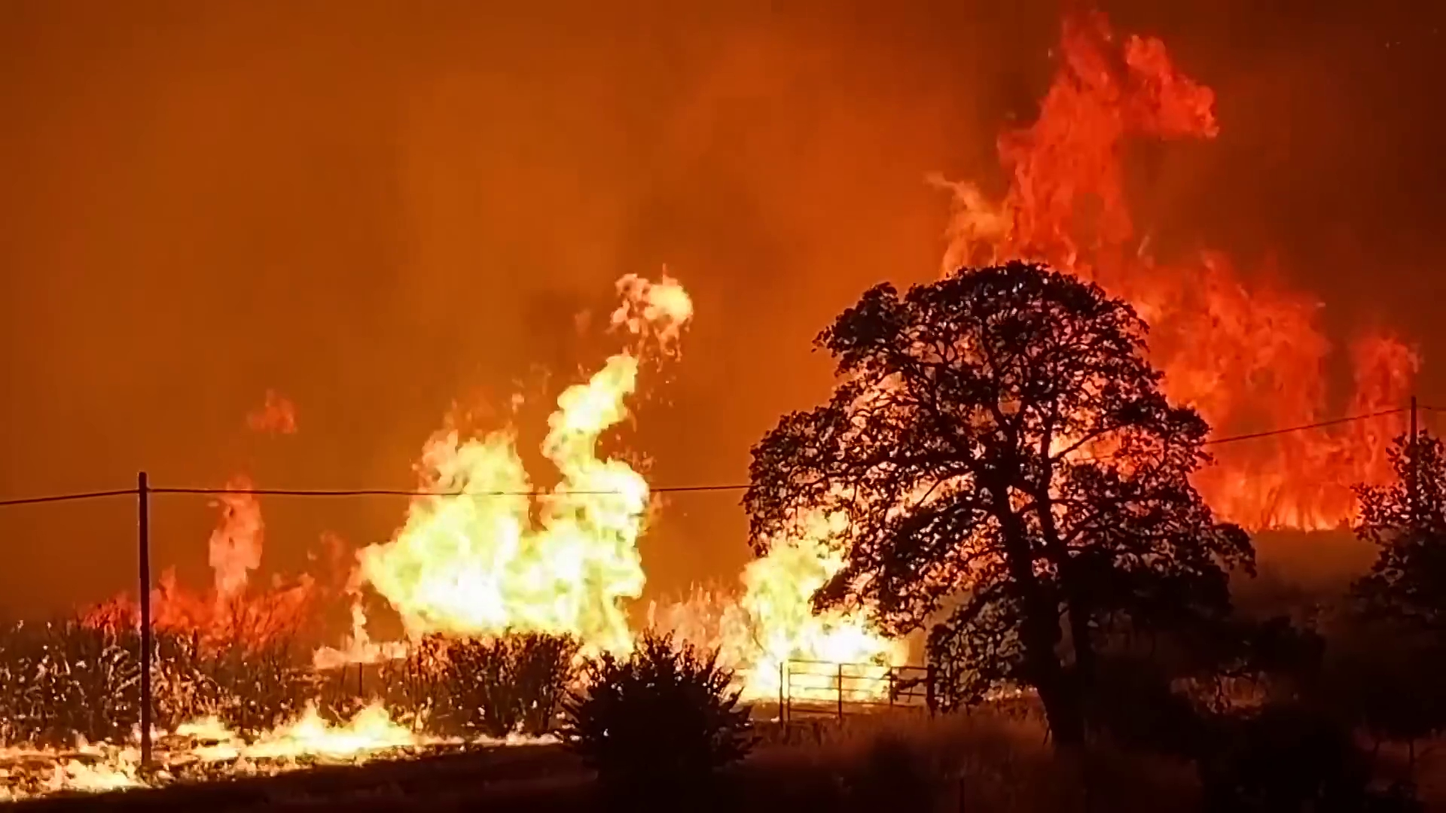forest_fire: (151, 273, 693, 677), (938, 15, 1337, 438), (648, 513, 909, 699), (1196, 333, 1417, 529), (154, 697, 461, 776), (0, 736, 160, 795), (81, 598, 136, 645), (249, 392, 295, 431), (469, 732, 543, 743), (813, 679, 840, 696), (855, 683, 886, 696), (214, 693, 236, 705), (162, 651, 164, 656), (0, 653, 2, 655), (840, 671, 840, 673)
